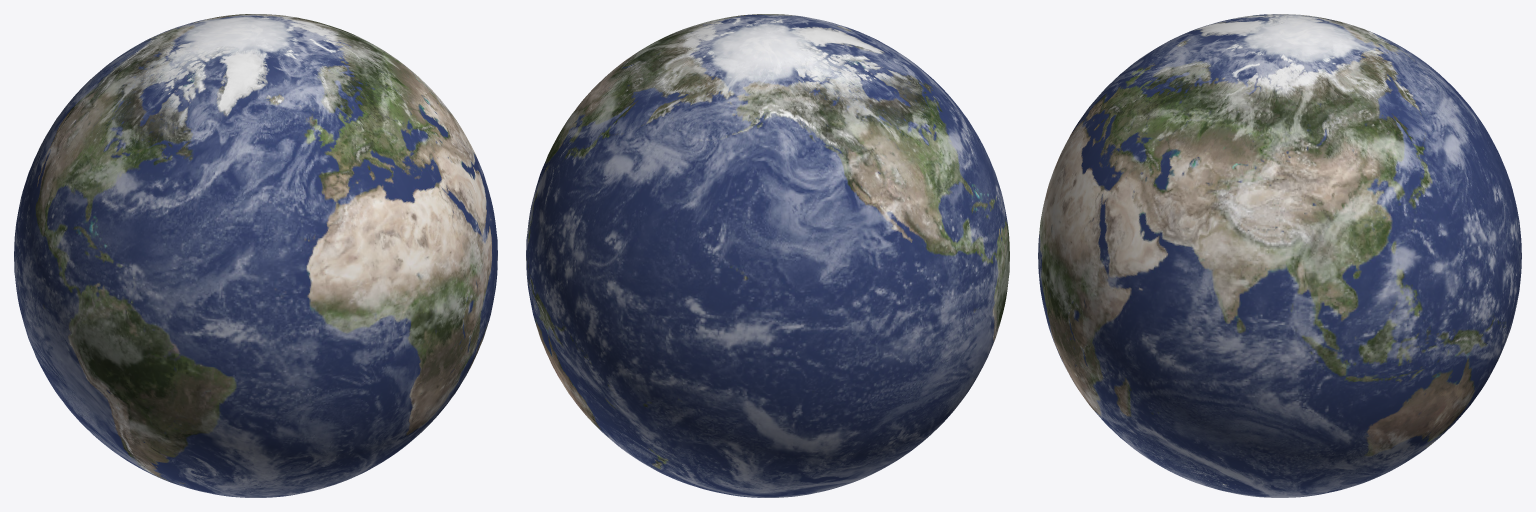
File: earthModel.gltf
3 renders of one model, left to right at view 1: azimuth 30°, elevation 25°; view 2: azimuth 150°, elevation 25°; view 3: azimuth 270°, elevation 25°, orthographic.
Visible parts, largest first — view 1: Earth; view 2: Earth; view 3: Earth.
Boxes of the visible parts, x1,y1,x2,y2 form: Earth: (14,14,497,497); Earth: (526,14,1009,497); Earth: (1038,14,1521,497).
Bounding box in the file's own units: 0.2 × 0.2 × 0.2.
1 material, 1 textured.
